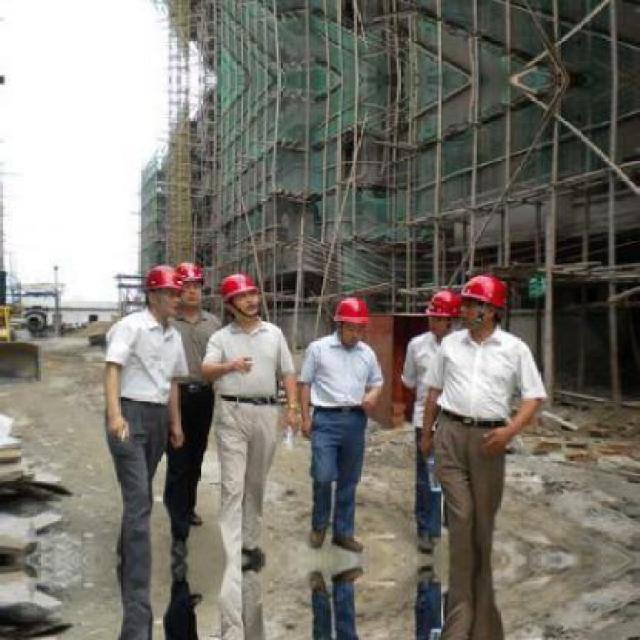boots: (241, 547, 265, 572), (332, 535, 363, 552), (417, 531, 434, 553), (310, 528, 326, 548), (189, 510, 202, 525)
hard-hat: (460, 274, 508, 309), (218, 273, 258, 303), (144, 264, 183, 292), (425, 290, 463, 318), (333, 297, 370, 325), (175, 261, 204, 283)
person: (420, 274, 535, 557), (201, 273, 298, 571), (103, 264, 192, 536), (297, 296, 385, 552), (400, 290, 464, 553), (164, 261, 222, 527)
